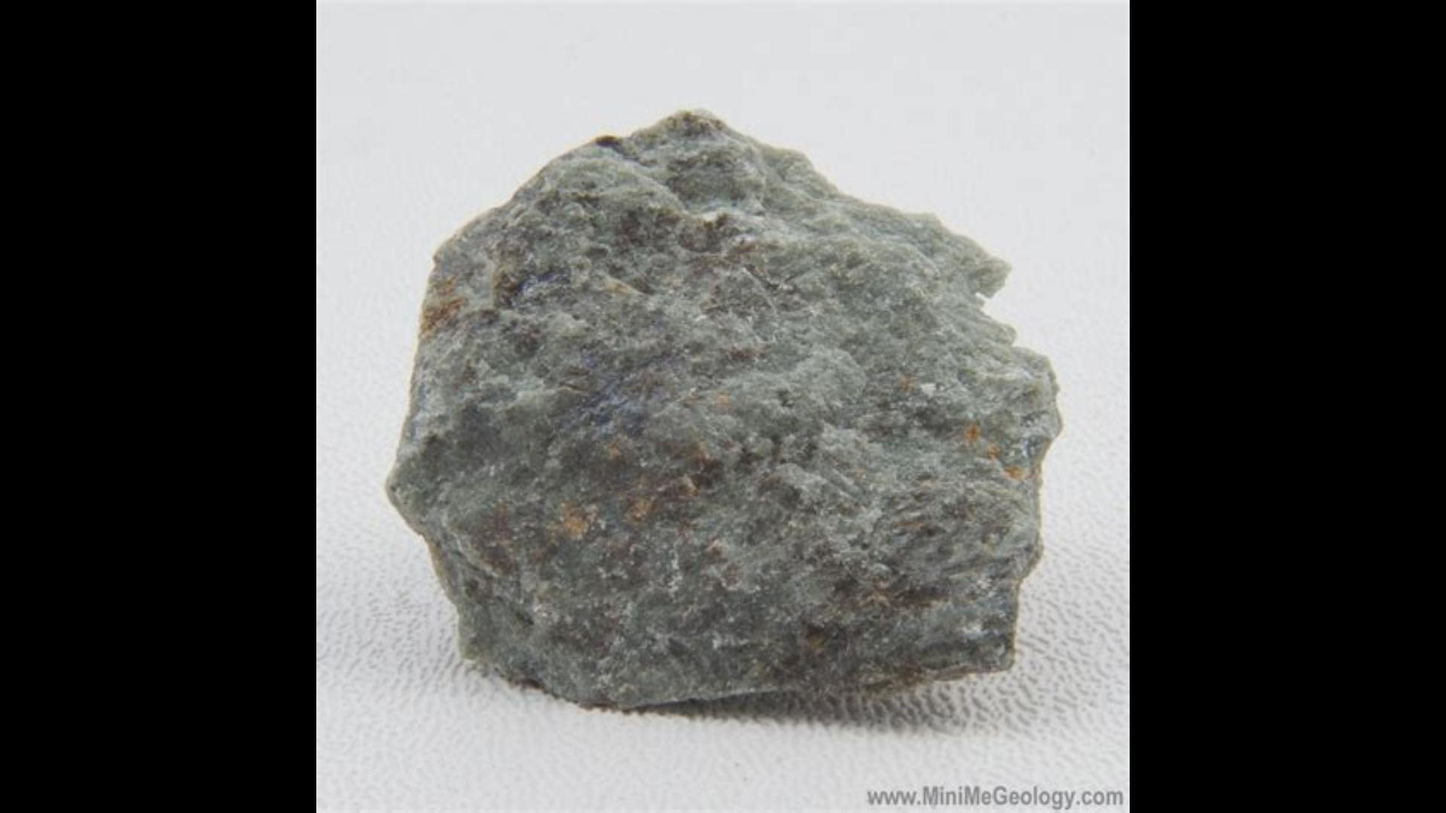rock: (388, 111, 1058, 714)
